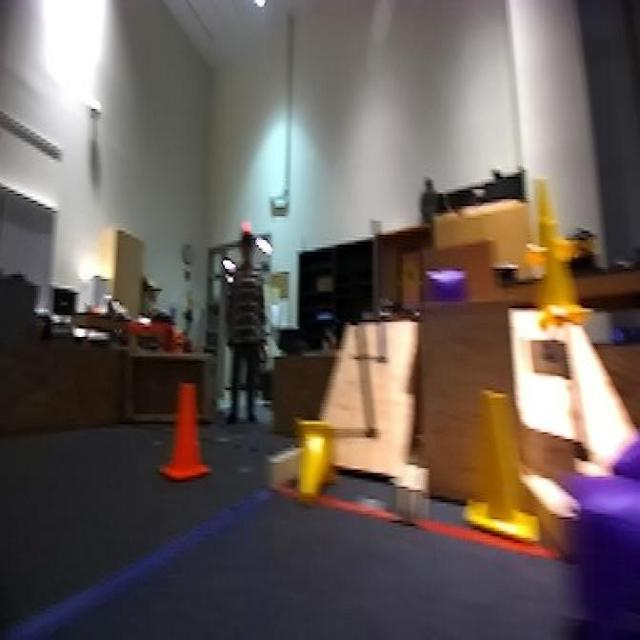frc_cone: (461, 383, 538, 538), (532, 202, 594, 324), (290, 412, 337, 500), (528, 172, 570, 264)
frc_cube: (563, 471, 640, 640), (427, 267, 476, 305)
